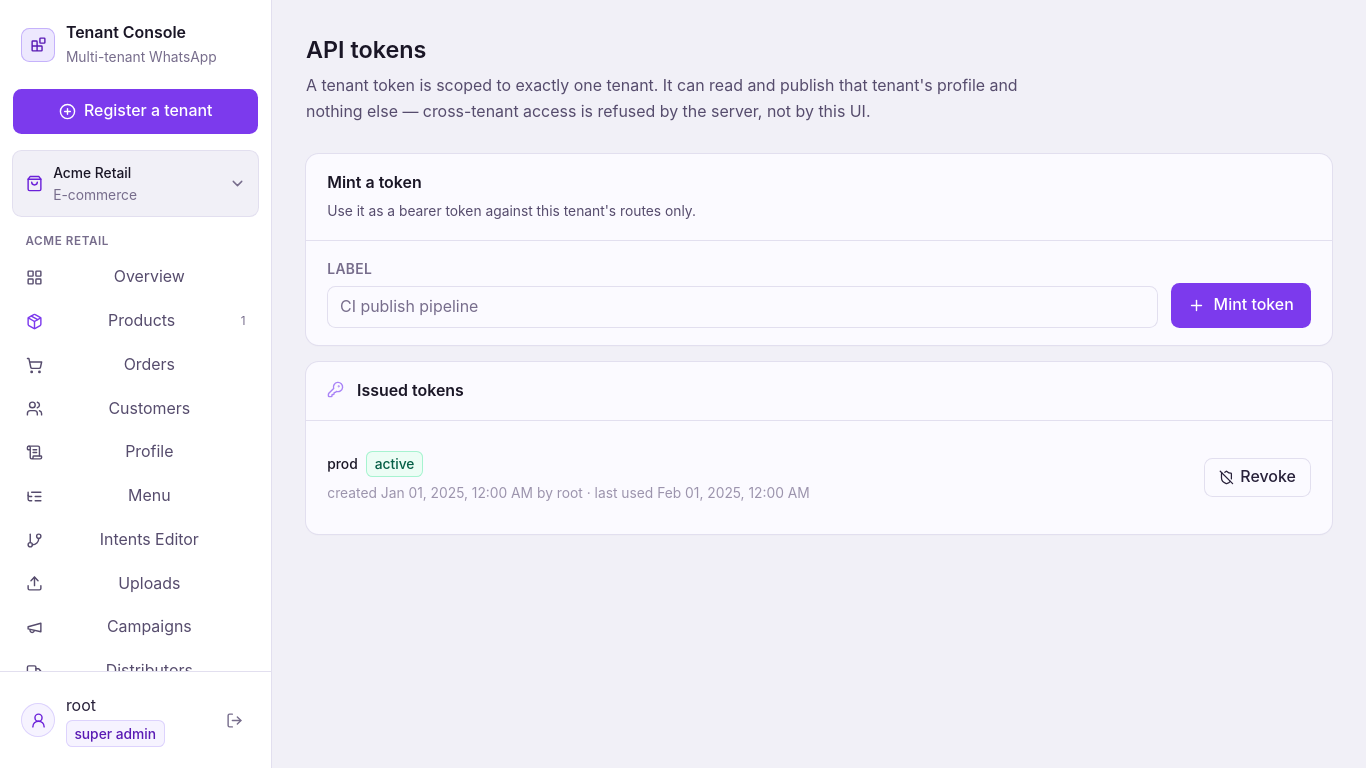
Test: tokens page interactions › mints a token and shows it once
Step 1. Type "ci" into the field labelled "Label" → (743, 307), box [327,286,1158,328]
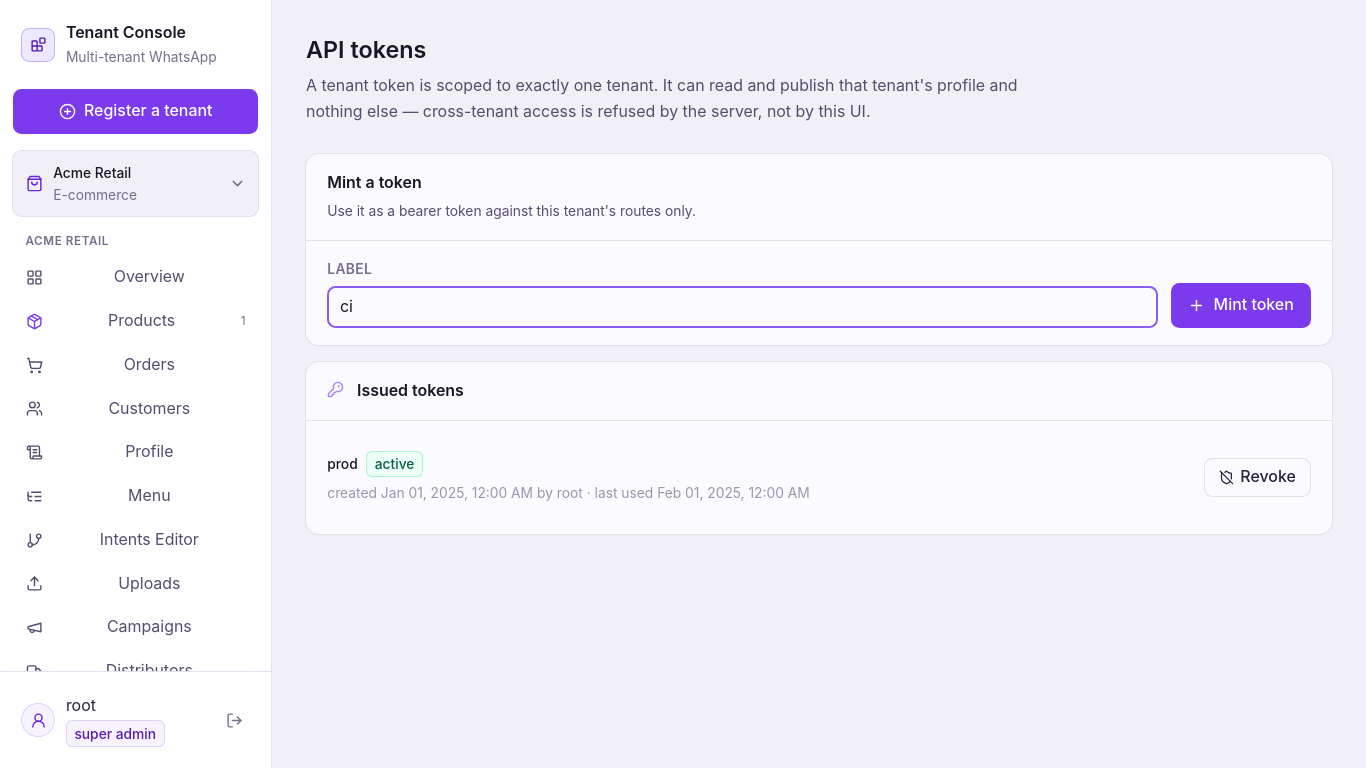
Step 2. Click the button "Mint token" → (1241, 305), box [1171,283,1311,328]
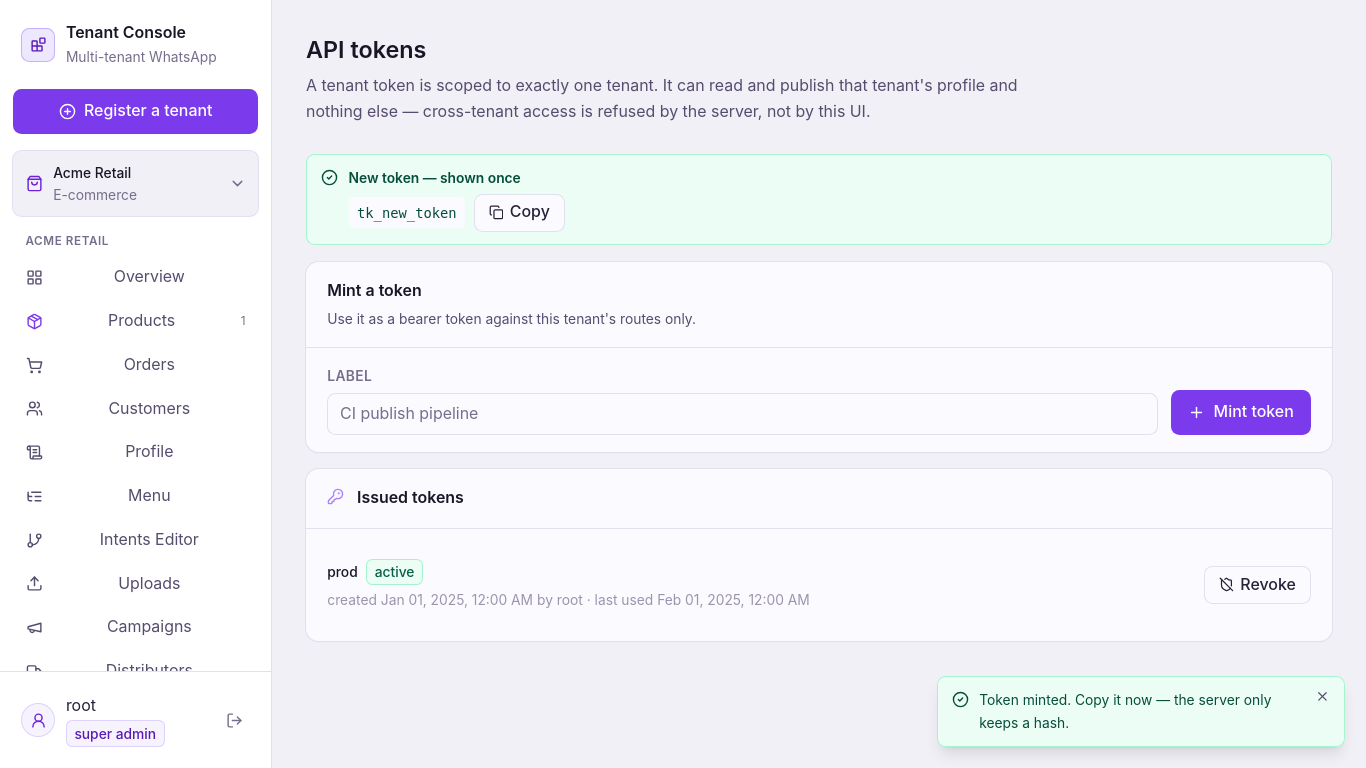
Result: the text "tk_new_token" is shown at [348,198,465,228]
